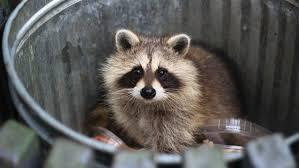raccoon: (84, 23, 253, 160)
